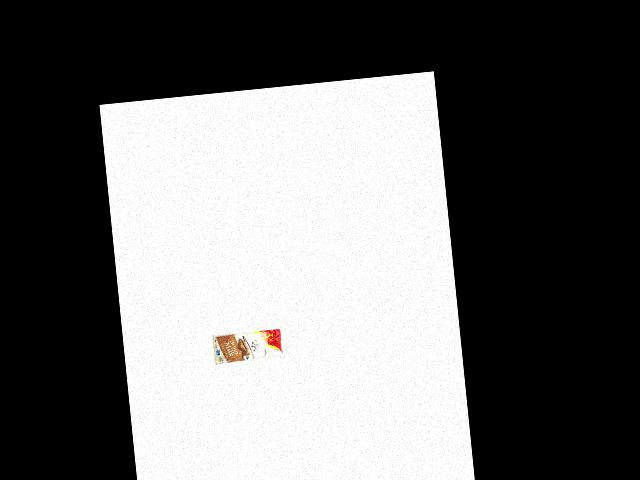chocolate: (213, 326, 284, 365)
